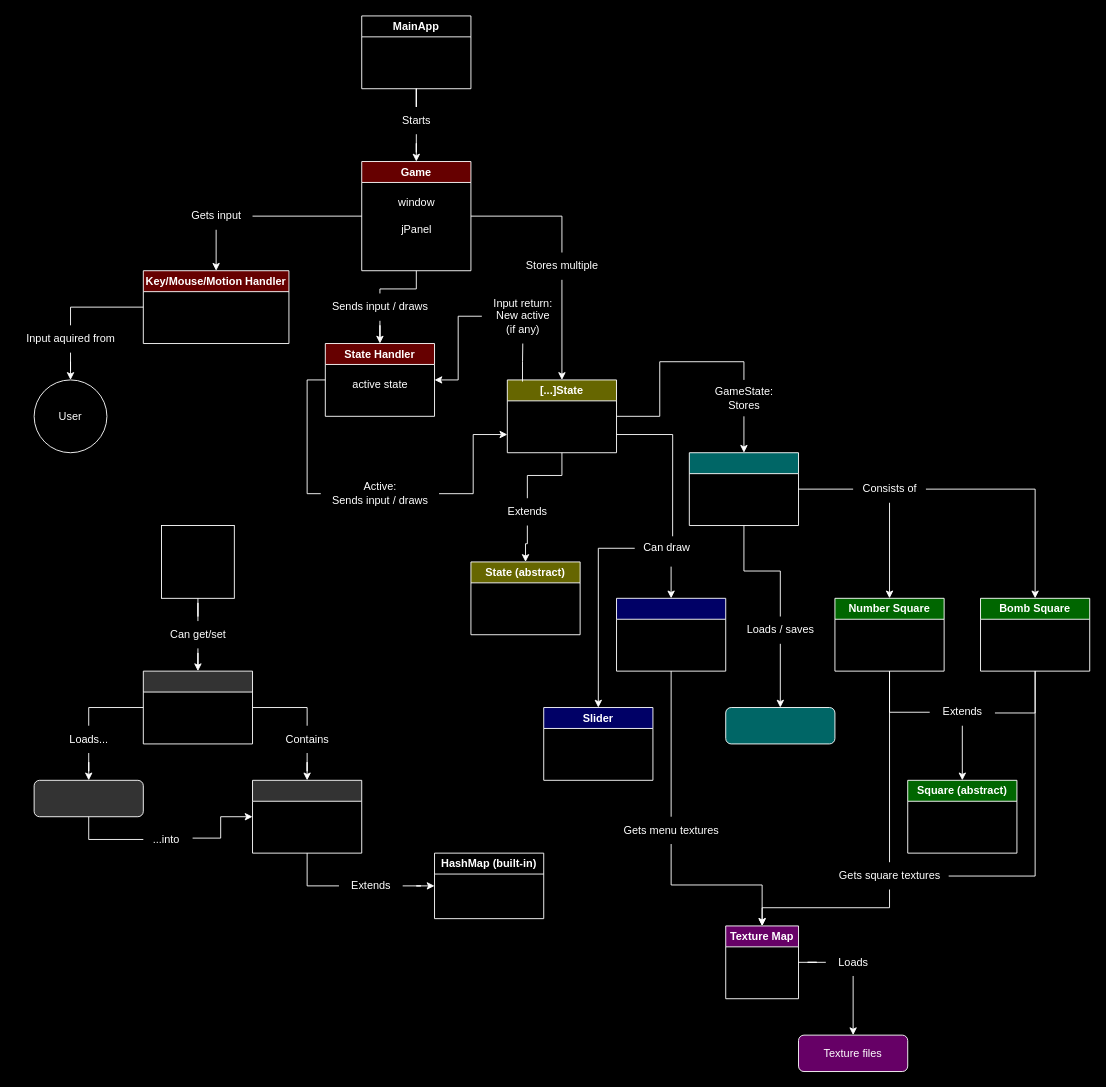
The diagram is 1106 pixels wide and 1087 high, and some of its shapes have lost their labels. Here are the shapes that lost their labels. From the top down, the centre of each, then its label:
(743,489): Board
(197,561): Everything
(671,634): Menu Window
(197,707): Settings (static)
(780,725): Board files
(88,798): Settings file
(307,816): Json Map
